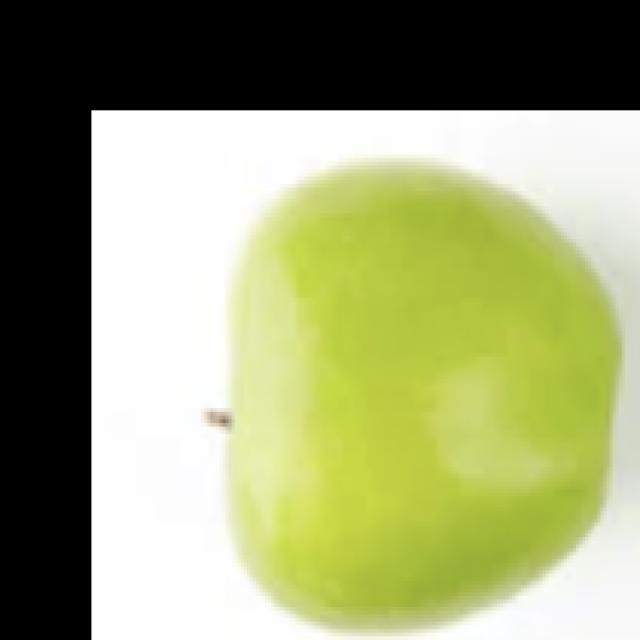Fresh Apple: (215, 160, 618, 622)
